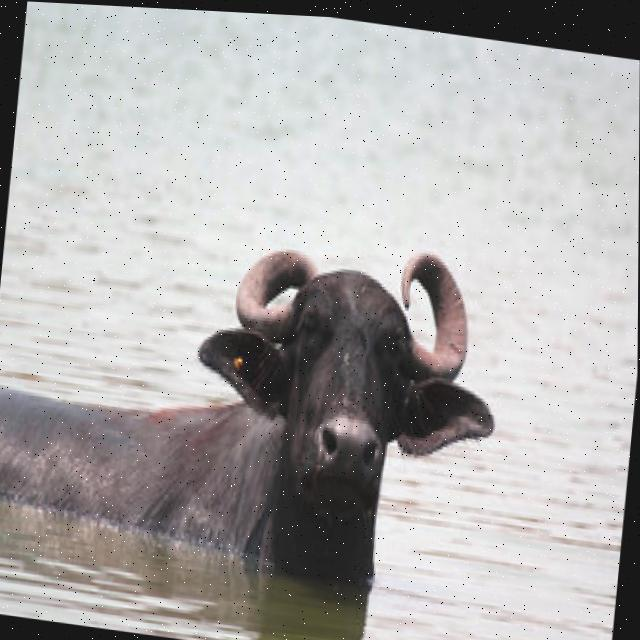Buffalo: (0, 186, 511, 617)
